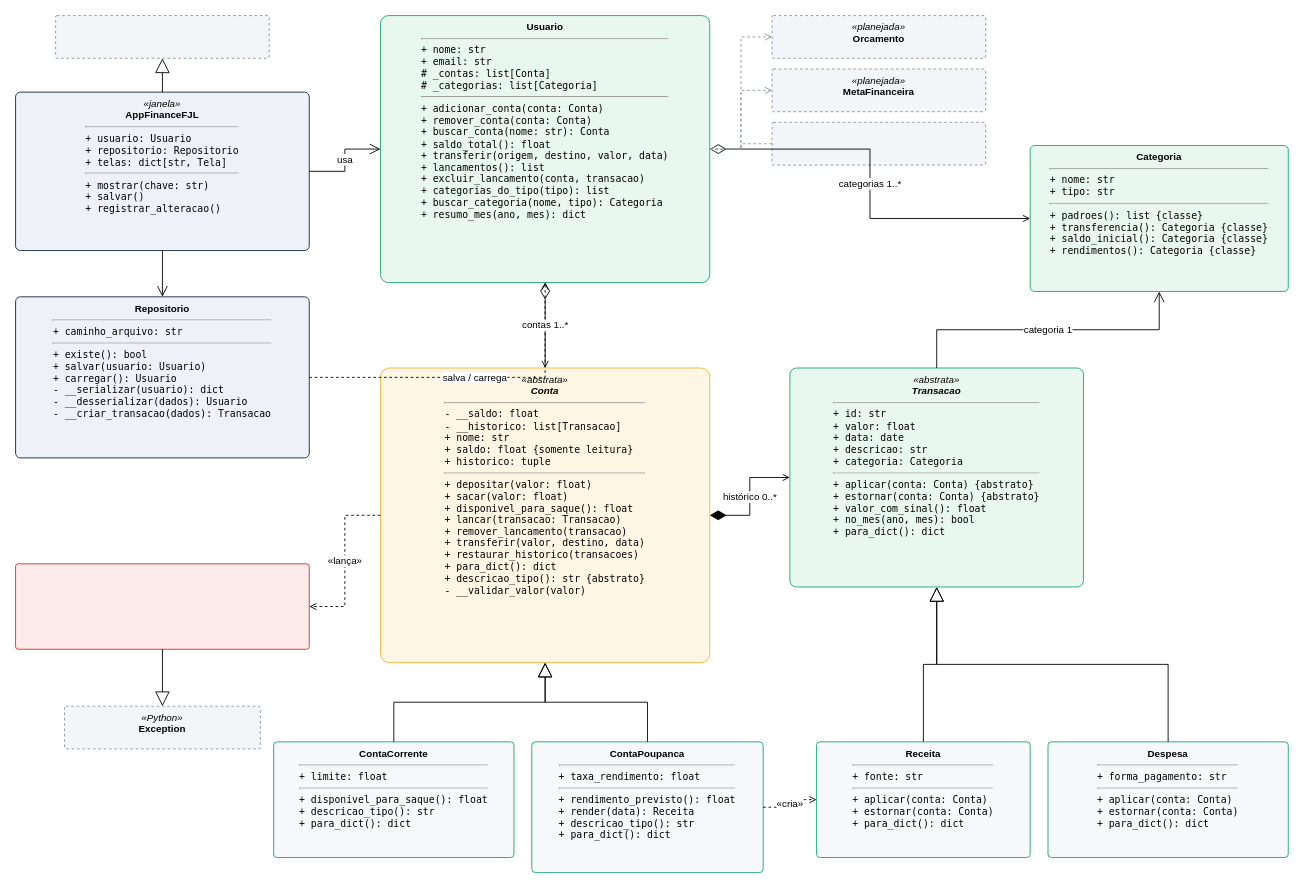
Image size: 1304x888. Some labels were removed from this diagram. Here are the shapes that lost their labels. From the top down, the box of each, then its label:
(55, 15, 269, 58): «biblioteca» customtkinter.CTk
(771, 121, 986, 165): «planejada» Relatorio
(15, 563, 309, 649): «exceção» SaldoInsuficienteError + valor: float + disponivel: float
